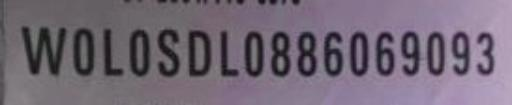letter: (19, 20, 69, 75), (98, 22, 128, 75), (69, 24, 99, 75), (152, 26, 182, 77), (318, 28, 348, 79), (266, 26, 294, 79), (186, 28, 216, 77), (238, 28, 268, 77), (213, 26, 241, 77), (292, 30, 322, 77), (470, 28, 498, 77), (397, 28, 423, 79), (448, 28, 474, 79), (345, 30, 373, 77), (127, 24, 151, 75), (425, 28, 447, 79), (373, 30, 395, 77)
